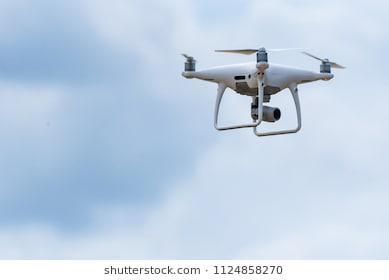drone: (179, 42, 349, 136)
